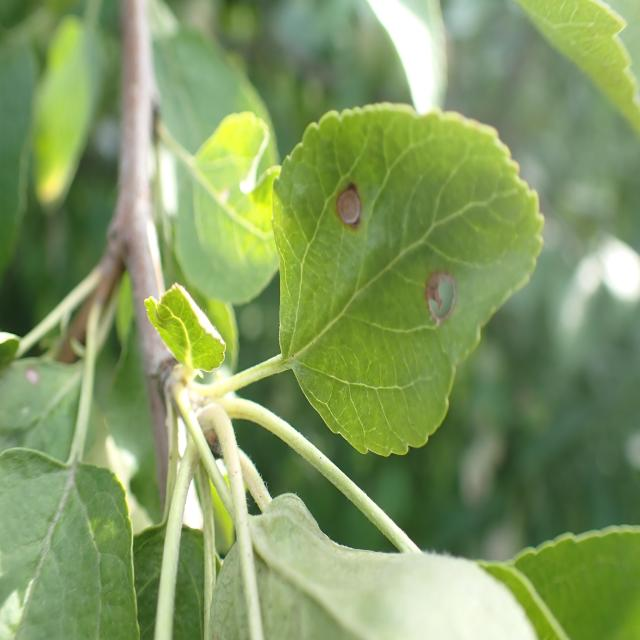Black Rot: (416, 265, 475, 355), (324, 149, 370, 259)
